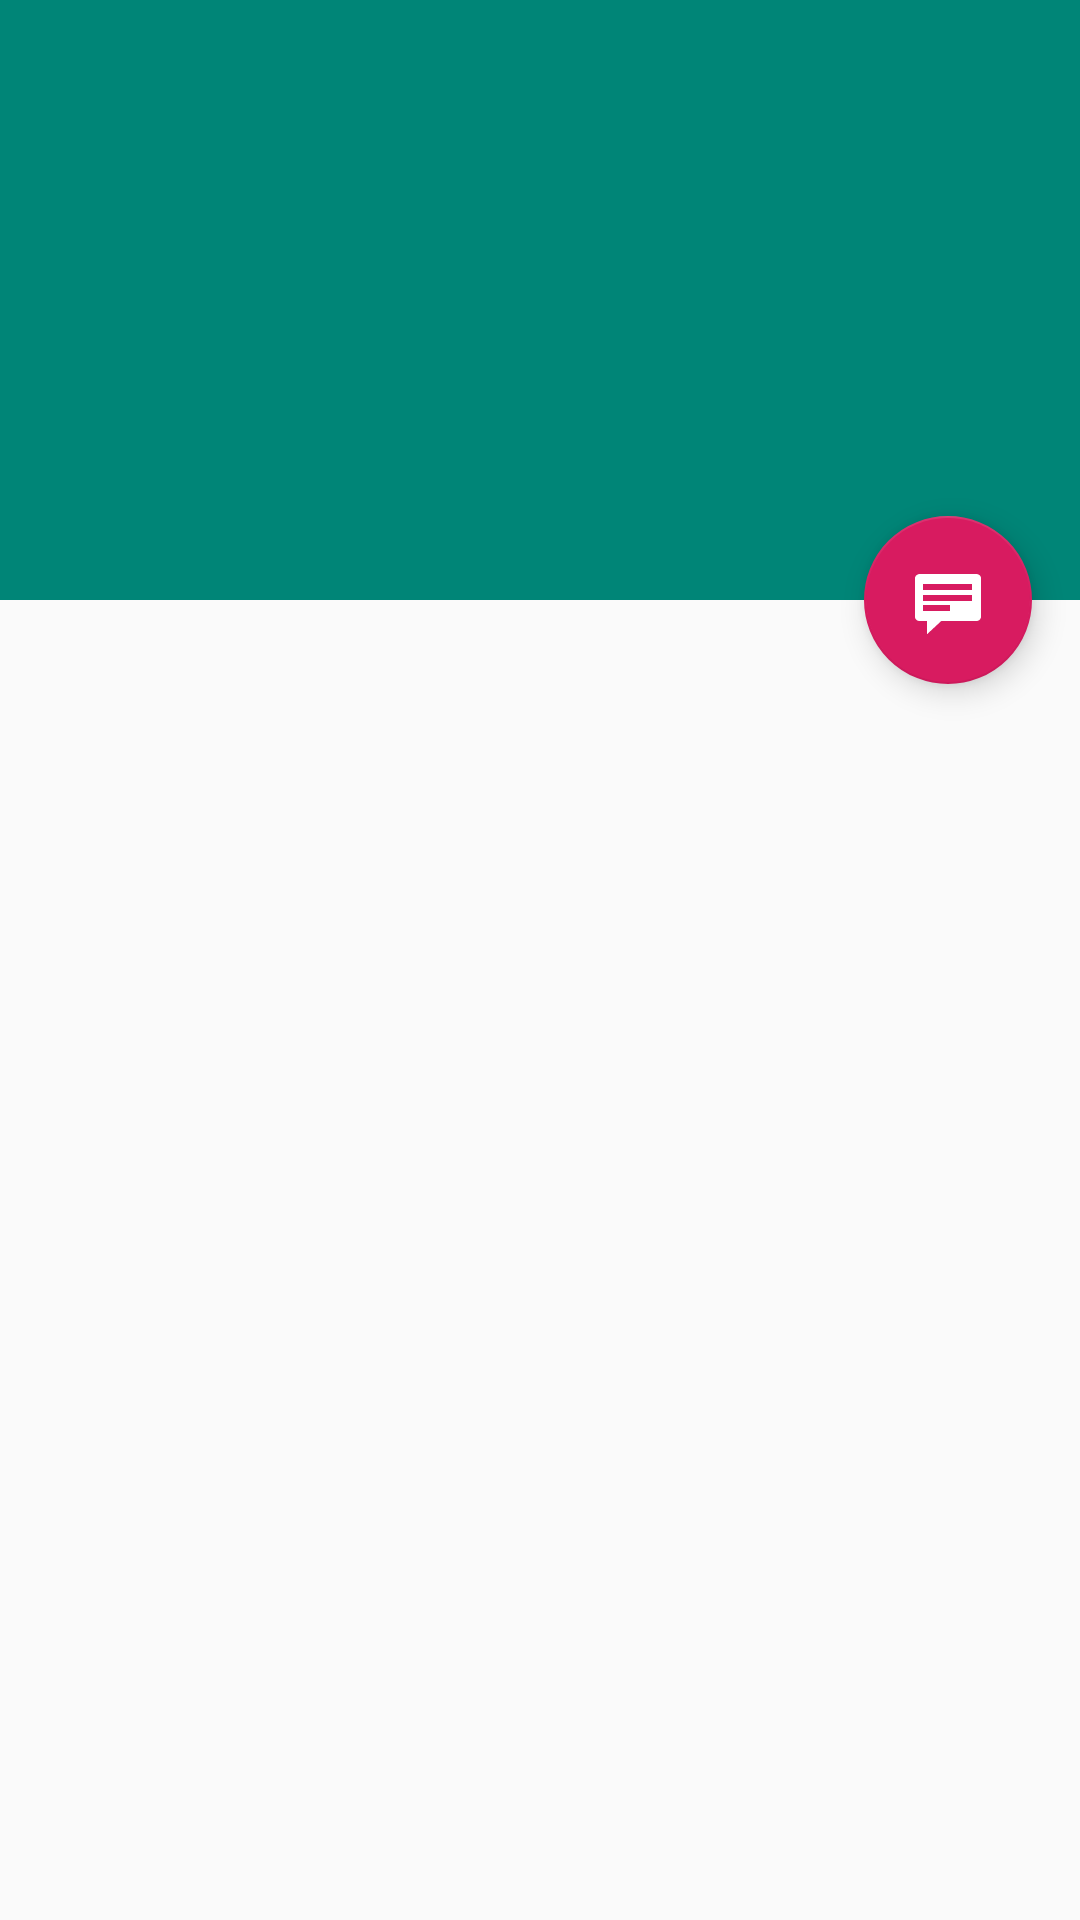

Named icons in this screenshot (1080*1920) and their centers, [x,y]:
chat: [948,600]
